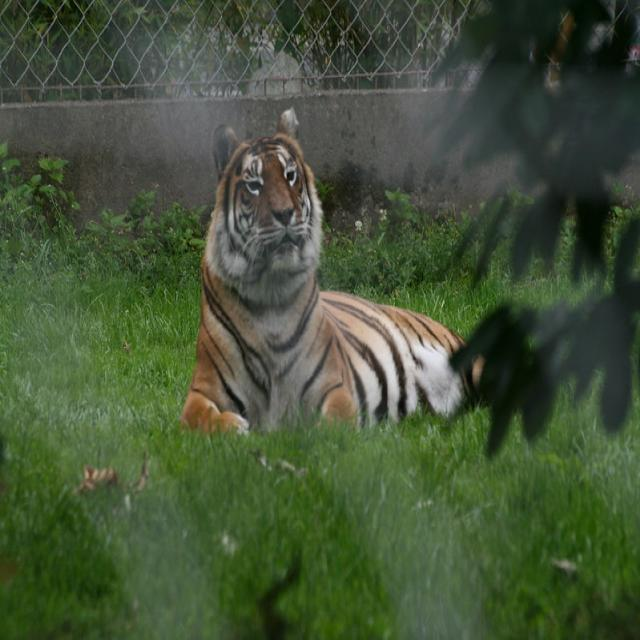Tiger: (175, 103, 482, 437)
